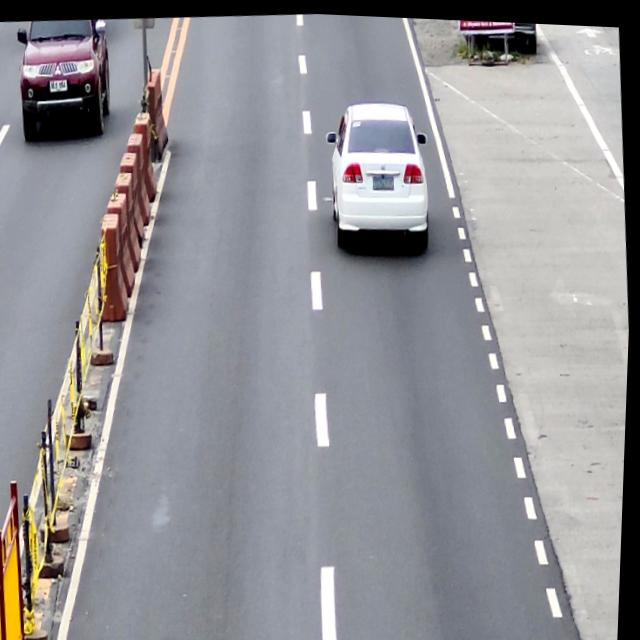Car: (321, 92, 436, 250)
License-Plate: (372, 170, 396, 188)
